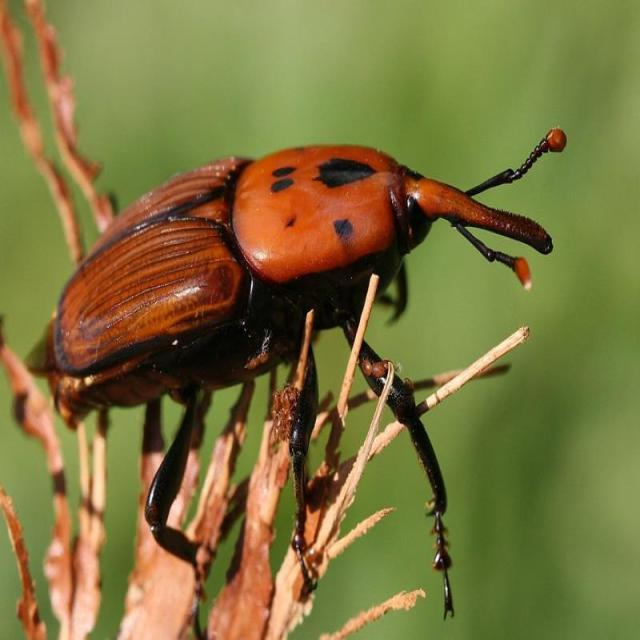Red-palm-weevil: (50, 127, 573, 410)
